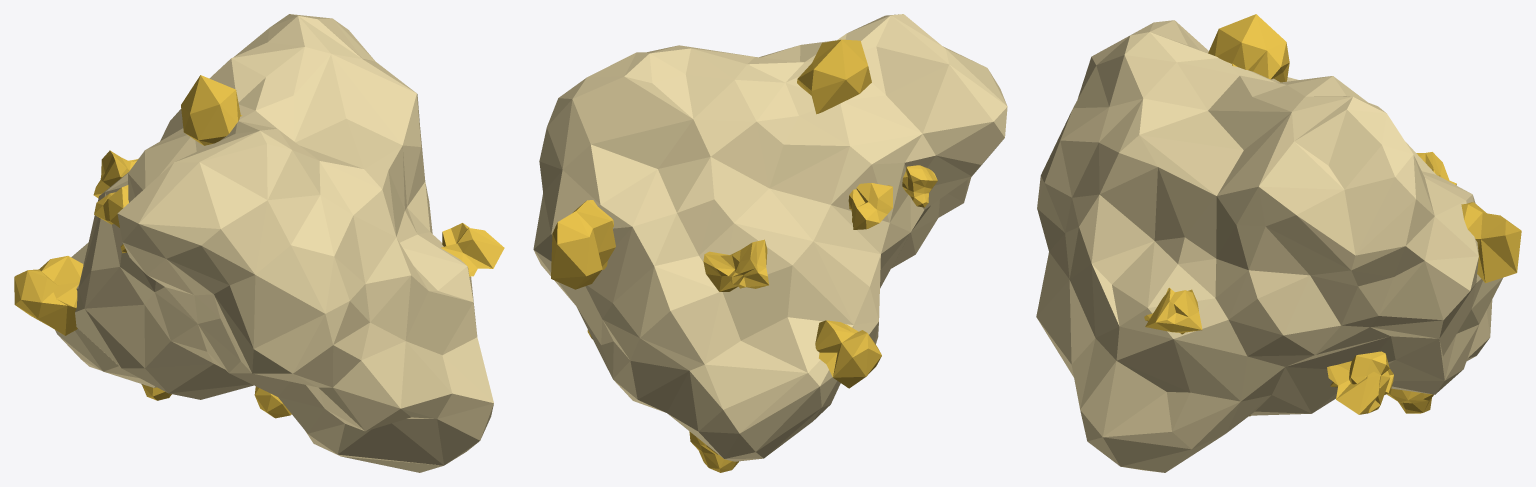
Rendered from MetalOre (37).fbx.
3 renders of one model, left to right at view 1: azimuth 30°, elevation 25°; view 2: azimuth 150°, elevation 25°; view 3: azimuth 270°, elevation 25°, orthographic. The views are drawn at different scales.
Parts seen in each view (by area): view 1: Asteroid392; view 2: Asteroid392; view 3: Asteroid392.
Part boxes in pixels (bbox=[...]): Asteroid392: bbox=[14, 14, 504, 472]; Asteroid392: bbox=[533, 14, 1007, 472]; Asteroid392: bbox=[1036, 14, 1521, 472].
Bounding box in the file's own units: 341 × 342 × 395.
